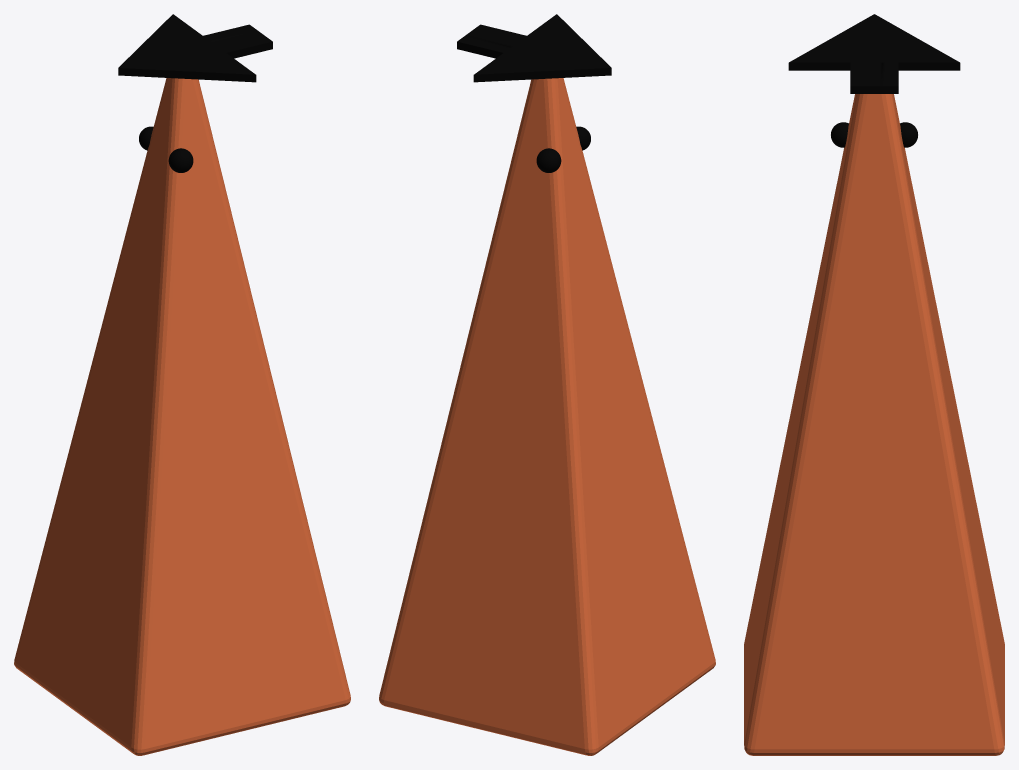
File: tbeige.obj
3 renders of one model, left to right at view 1: azimuth 30°, elevation 25°; view 2: azimuth 150°, elevation 25°; view 3: azimuth 270°, elevation 25°, orthographic. The views are drawn at different scales.
Visible parts, largest first — view 1: Cube.019_Cube.007; view 2: Cube.019_Cube.007; view 3: Cube.019_Cube.007.
Part boxes in pixels (bbox=[...]): Cube.019_Cube.007: bbox=[14, 14, 350, 755]; Cube.019_Cube.007: bbox=[379, 14, 715, 755]; Cube.019_Cube.007: bbox=[744, 14, 1004, 755].
Bounding box in the file's own units: 0.1762 × 0.4901 × 0.1762.
